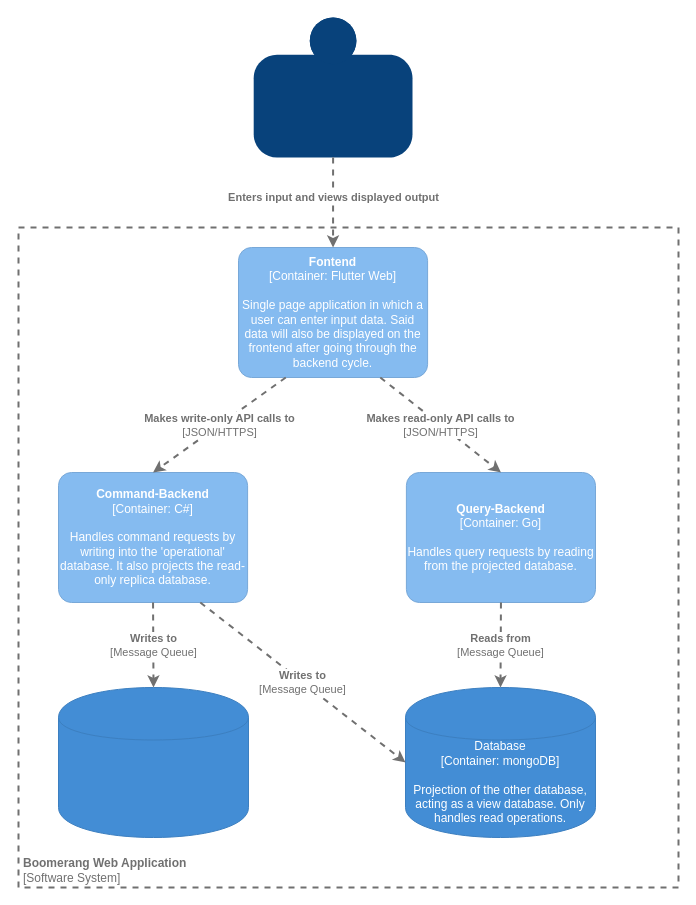
Some shapes in this 696 by 905 pixel diagram are drawn without their labels. Here are the shapes that lost their labels. From the top down, the centre of each, then its label:
At point 332,87: "Boomerang User [Person] A user of the boomerang application.".
At point 153,762: "Database [Container: mongoDB] Stores user inputs. Only handles write operations.".
